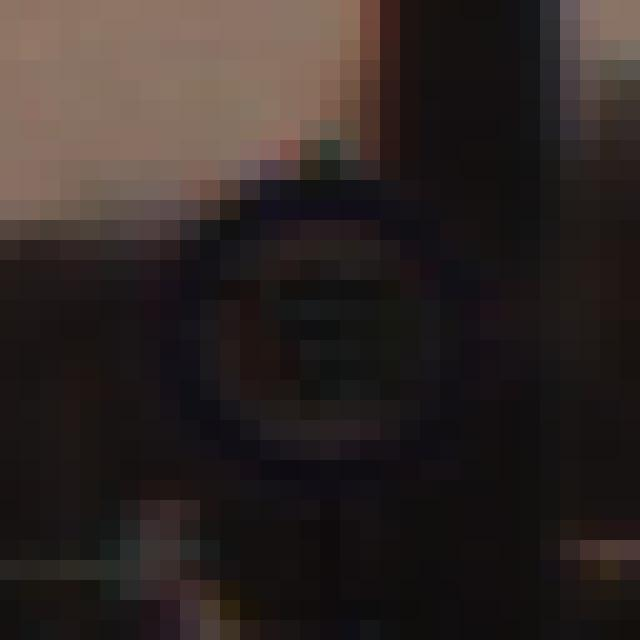SPEED LIMIT 100: (178, 187, 478, 488)
